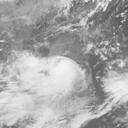cyclone: (32, 57, 82, 101)
